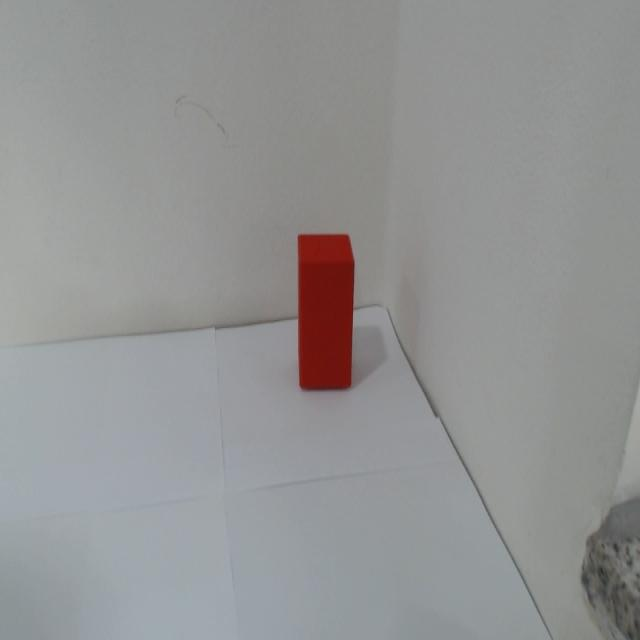cube: (294, 232, 356, 390)
